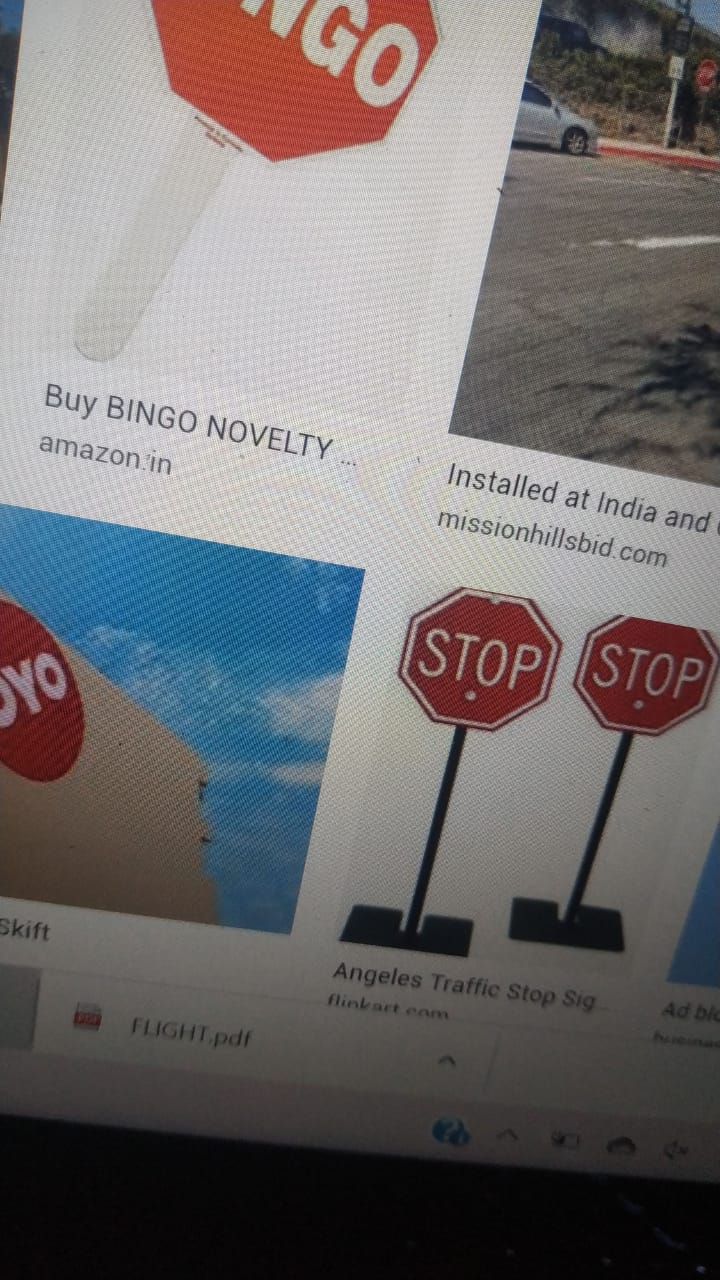STOP: (398, 515, 548, 748), (571, 541, 713, 753)
